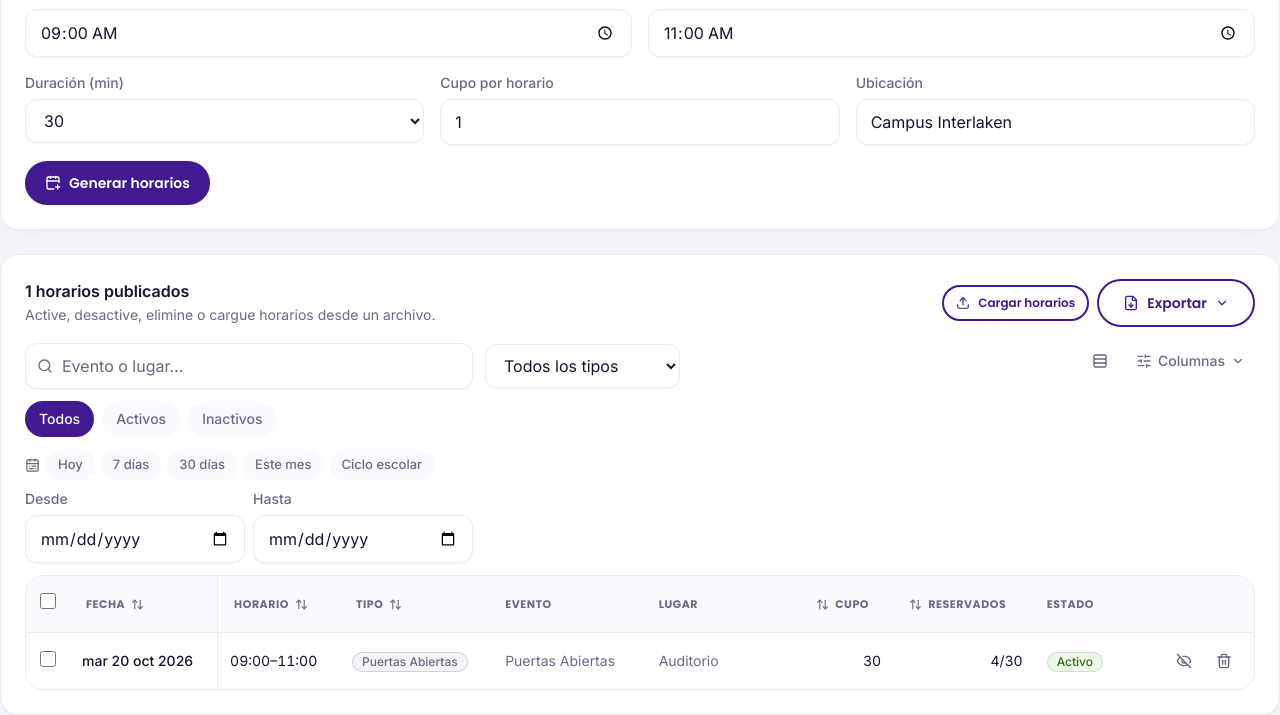
Test: AdminBookings: horarios › bulk delete shows the per-row reason why a booked slot is skipped
The image size is (1280, 715).
(page scrolled)
Expected: the text "Auditorio" is shown, [647,632,800,689]
What coordinates should you click on to do the following:
click the checkbox named "Seleccionar horario del"
I would click on:
 (48, 658)
Its box is [40,650,56,666].
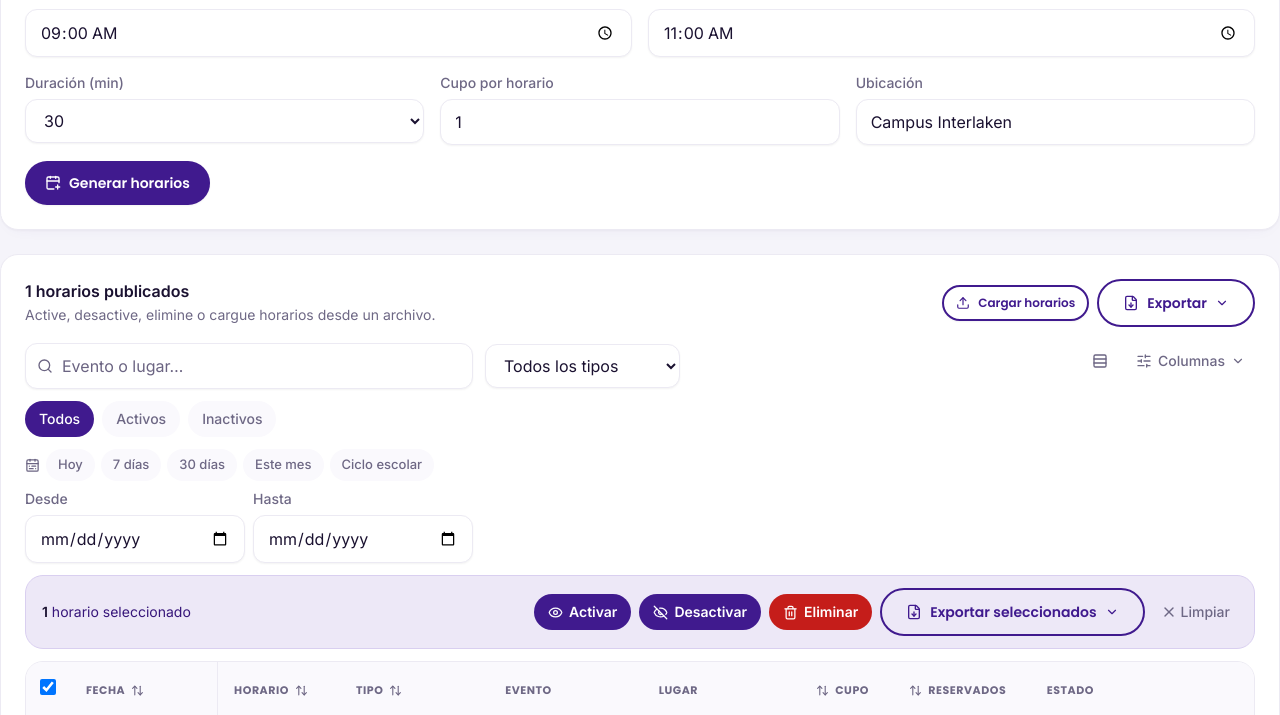
What coordinates should you click on to do the following:
click the button "Eliminar"
I would click on:
 (821, 612)
Its box is [769,594,872,630].
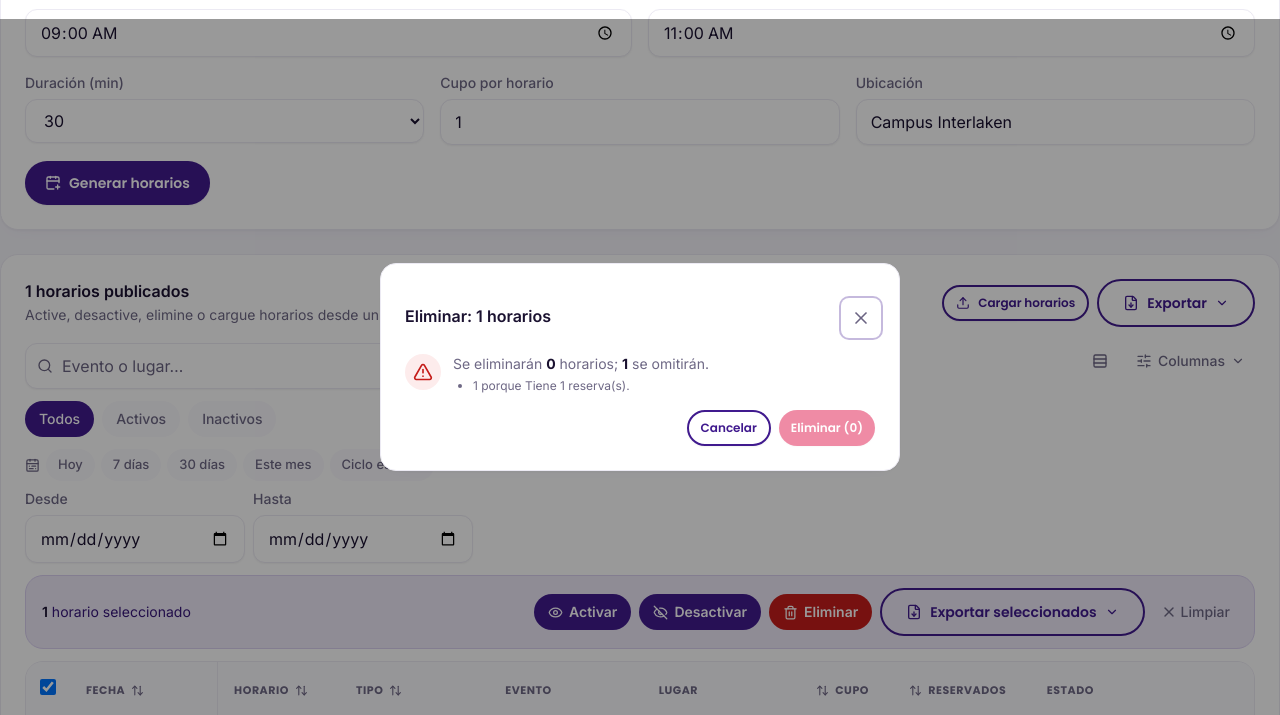
Now the dialog shows "Tiene 1 reserva(s).", box [525,378,630,393]
